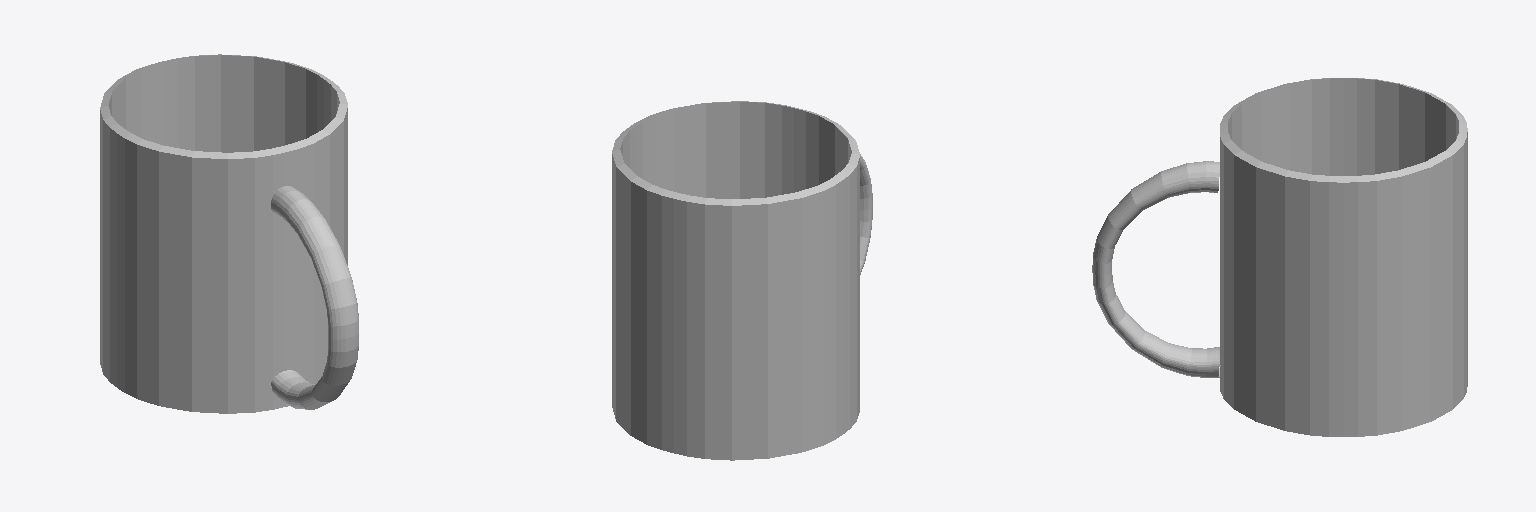
File: mug3.obj
3 renders of one model, left to right at view 1: azimuth 30°, elevation 25°; view 2: azimuth 150°, elevation 25°; view 3: azimuth 270°, elevation 25°, orthographic.
Parts seen in each view (by area): view 1: Surface_Mesh.001, SurfTorus_Mesh; view 2: Surface_Mesh.001, SurfTorus_Mesh; view 3: Surface_Mesh.001, SurfTorus_Mesh.
Part boxes in pixels (bbox=[...]): Surface_Mesh.001: bbox=[100, 54, 347, 413]; SurfTorus_Mesh: bbox=[271, 186, 358, 409]; Surface_Mesh.001: bbox=[612, 101, 859, 460]; SurfTorus_Mesh: bbox=[860, 154, 872, 274]; Surface_Mesh.001: bbox=[1220, 78, 1467, 436]; SurfTorus_Mesh: bbox=[1092, 161, 1220, 377].
Bounding box in the file's own units: 2 × 2.29 × 3.03.